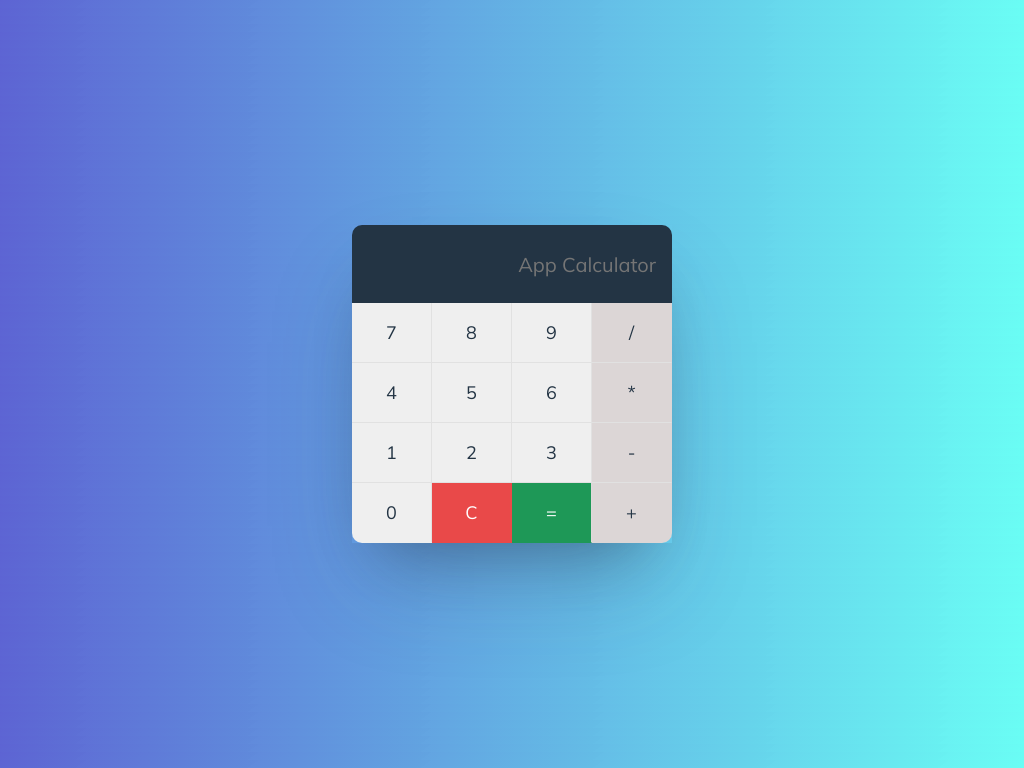
Verificar el comportamiento de los botones › Aplicar operador resultado
What coordinates should you click on to do the following:
click the button "1"
I would click on:
 (392, 453)
Its box is [352,423,432,483].
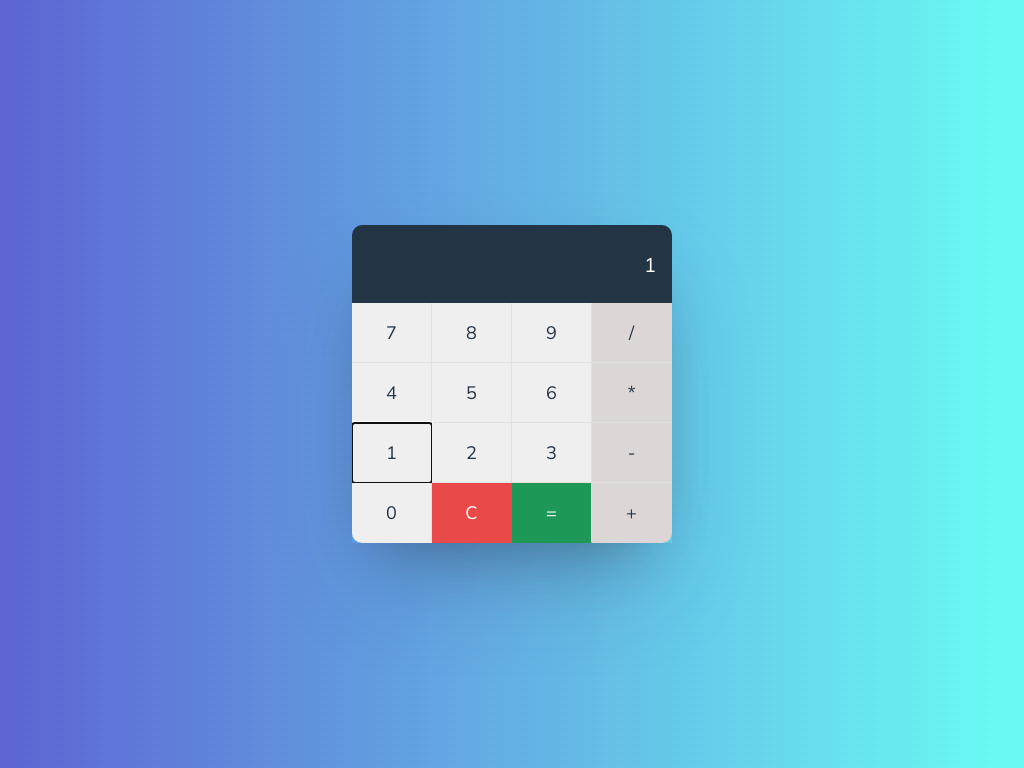
What coordinates should you click on to do the following:
click the button "+"
I would click on:
 (632, 513)
Its box is [592,483,672,543].
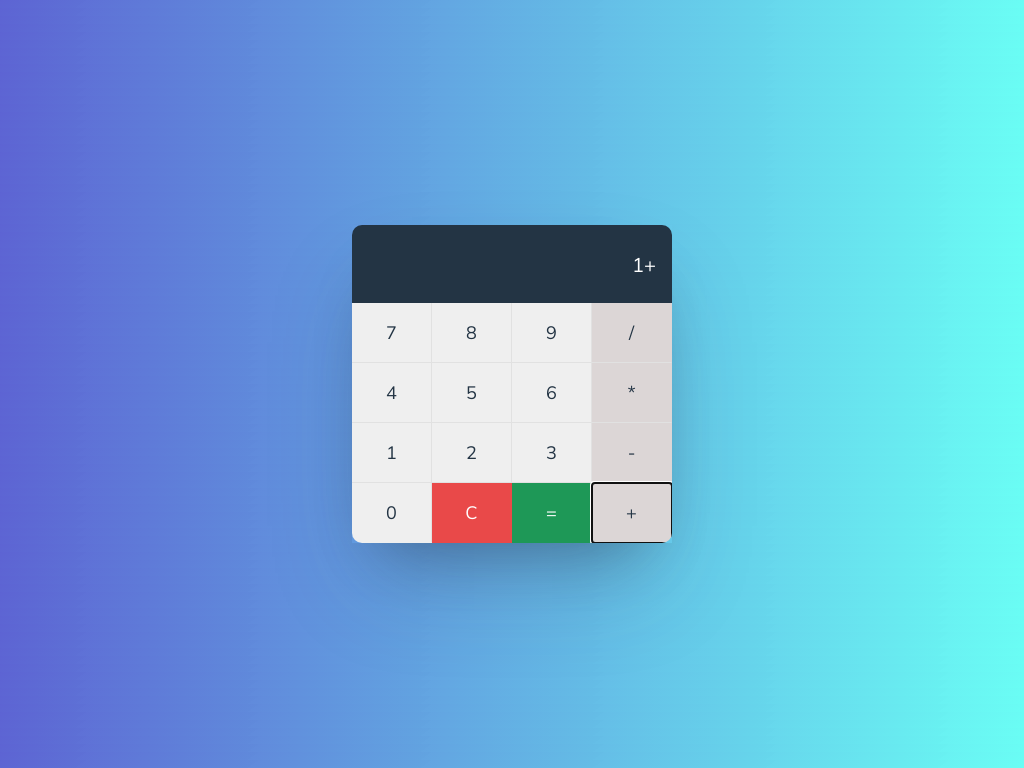
What coordinates should you click on to do the following:
click the button "1"
I would click on:
 (392, 453)
Its box is [352,423,432,483].
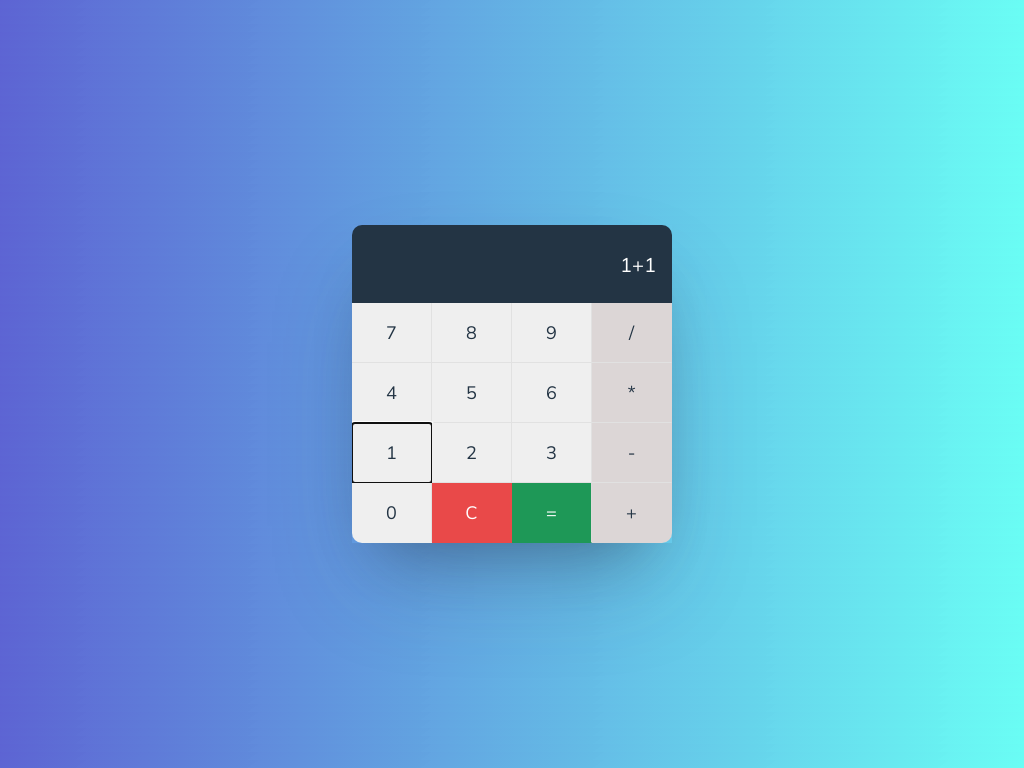
What coordinates should you click on to do the following:
click the button "="
I would click on:
 (552, 513)
Its box is [512,483,592,543].
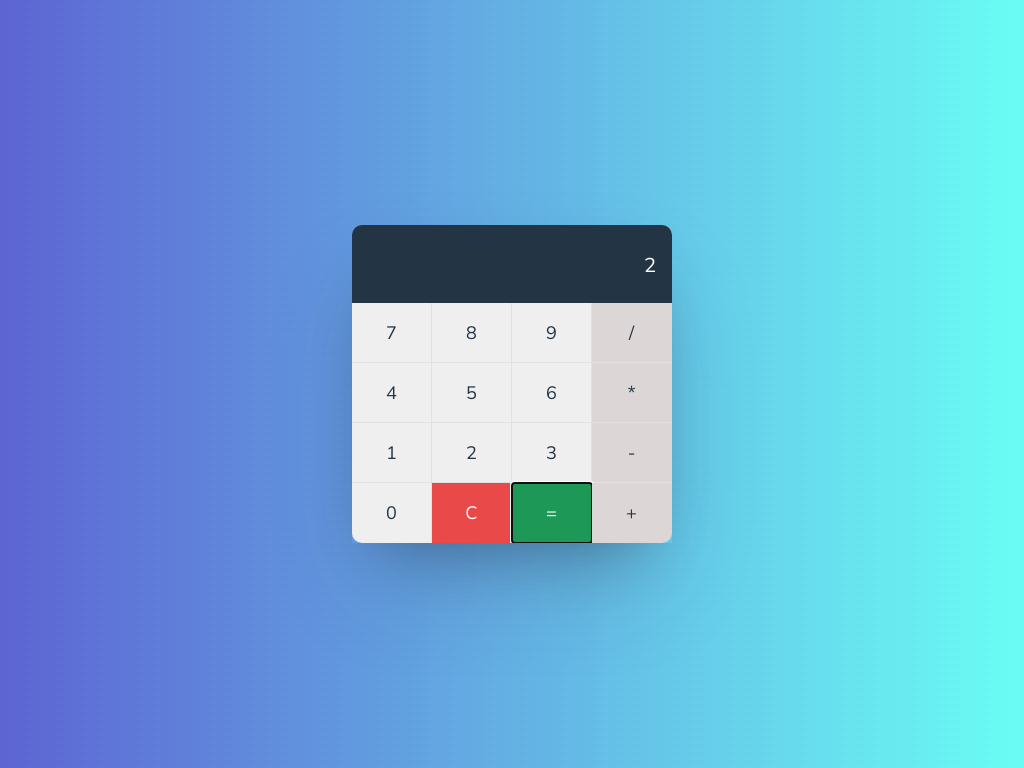
Check: the field holds "2", box [352,225,672,303]
